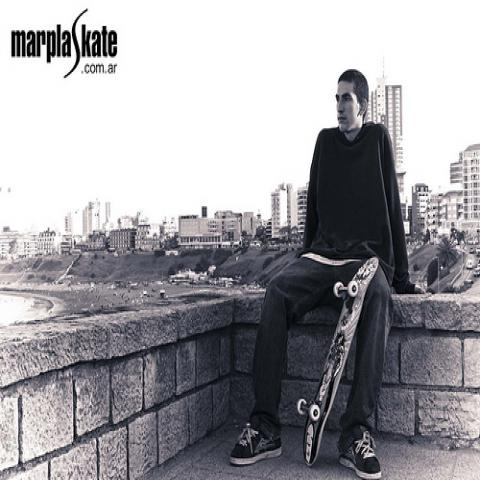car: (466, 259, 473, 269), (473, 267, 479, 278), (474, 247, 479, 255)
